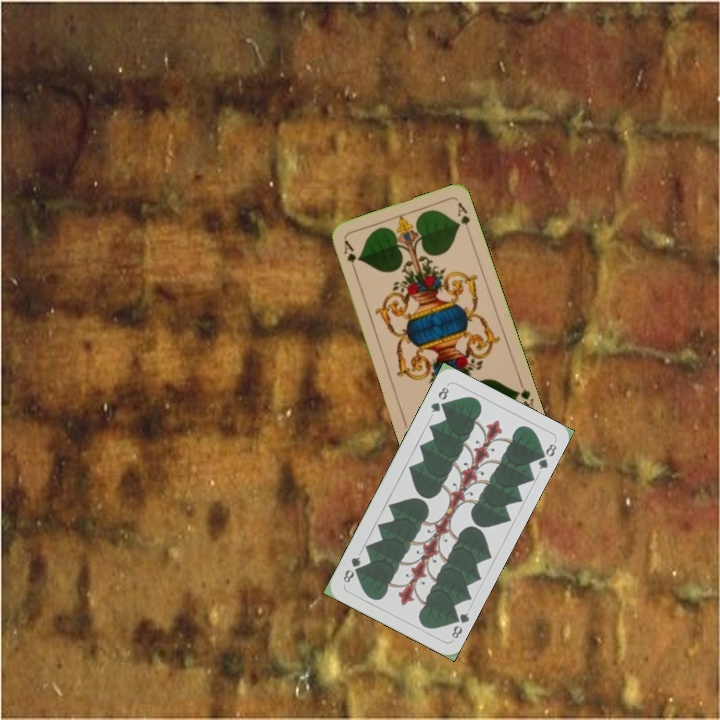G8: (447, 608, 472, 641), (427, 382, 451, 415)
GA: (511, 376, 536, 415), (340, 236, 359, 276)
